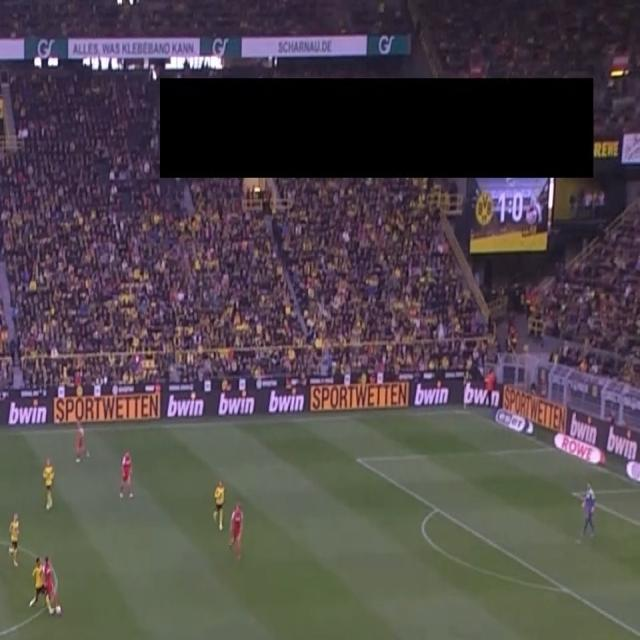ball: (55, 603, 63, 616)
